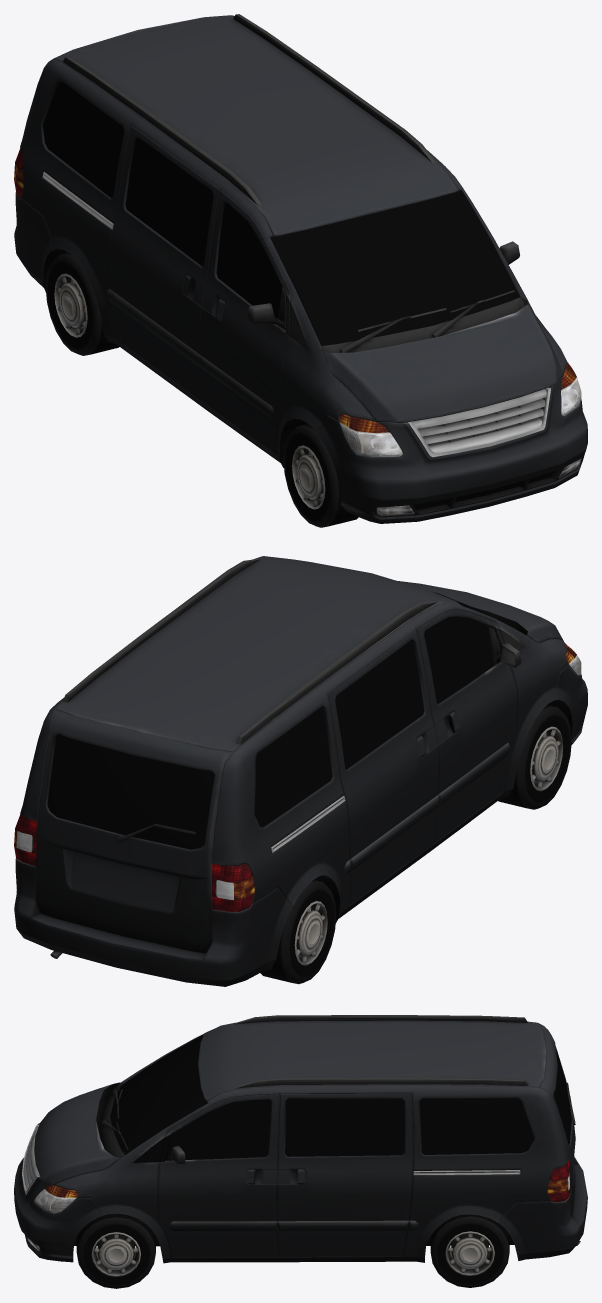
The model's file is minivan_graphite.glb.
The picture shows the model from 3 angles, top to bottom: view 1: azimuth 30°, elevation 25°; view 2: azimuth 150°, elevation 25°; view 3: azimuth 270°, elevation 25°; orthographic projection. The views are drawn at different scales.
Visible parts, largest first — view 1: minivan body, Front Right Wheel, Rear Right Wheel; view 2: minivan body, Rear Right Wheel, Front Right Wheel; view 3: minivan body, Front Left Wheel, Rear Left Wheel.
Boxes of the visible parts, bbox=[...] form: minivan body: bbox=[14, 14, 587, 523]; Front Right Wheel: bbox=[283, 424, 358, 527]; Rear Right Wheel: bbox=[45, 252, 119, 355]; minivan body: bbox=[14, 556, 587, 986]; Rear Right Wheel: bbox=[260, 880, 336, 984]; Front Right Wheel: bbox=[498, 705, 571, 809]; minivan body: bbox=[14, 1015, 587, 1263]; Front Left Wheel: bbox=[76, 1213, 155, 1288]; Rear Left Wheel: bbox=[430, 1214, 509, 1287].
Size of the model in its own units: 1.87 by 1.76 by 4.61.
1 material, 1 textured.
